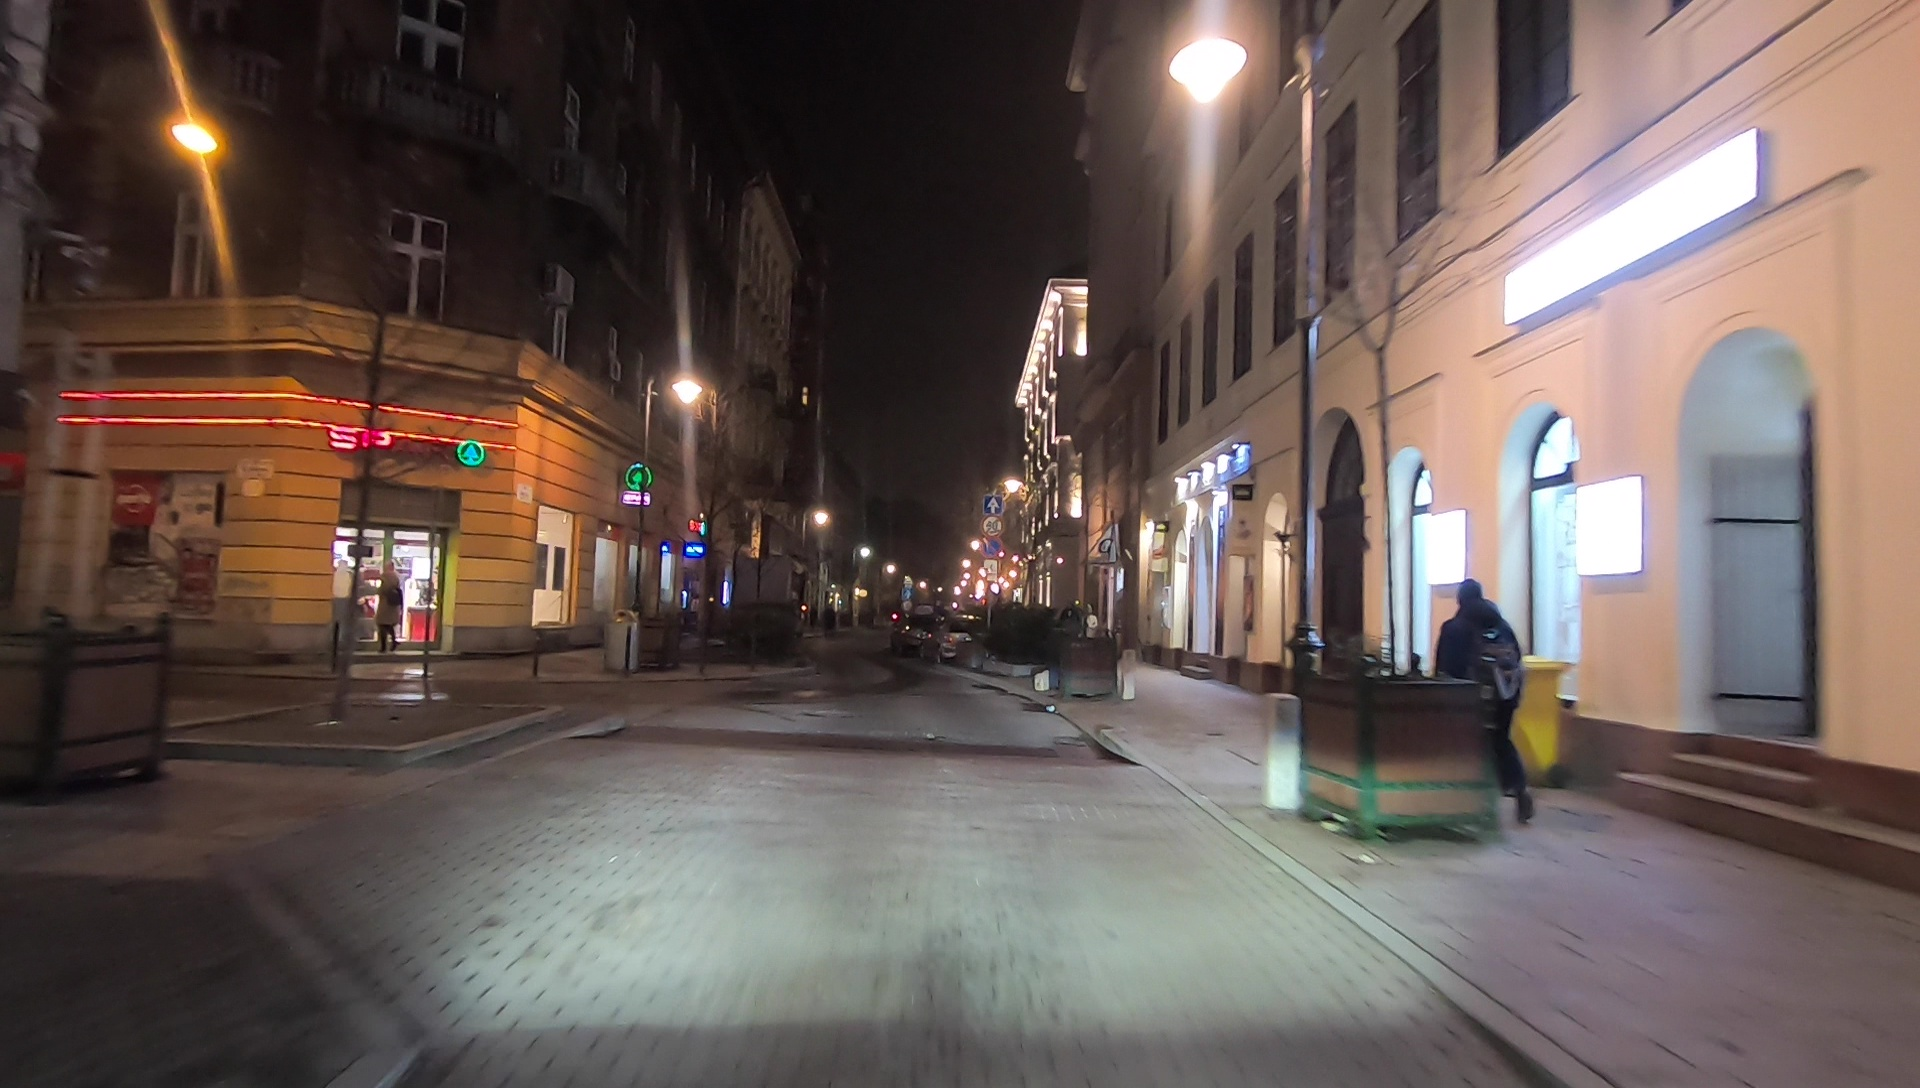person: (1436, 574, 1539, 813), (378, 565, 408, 652)
